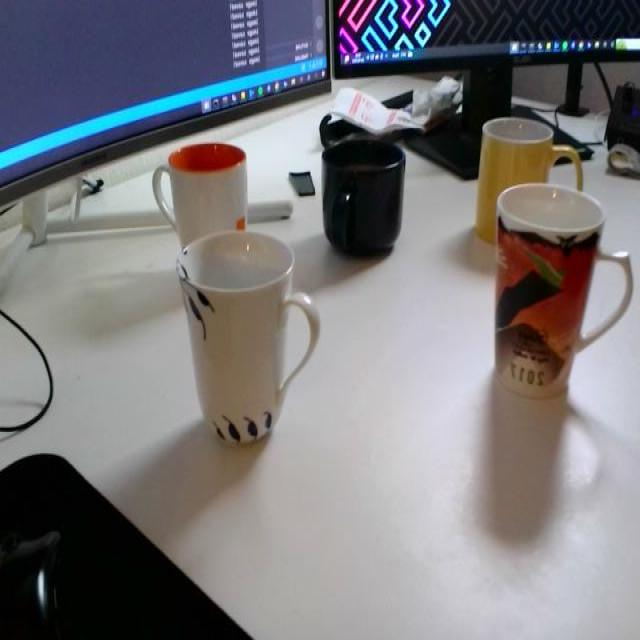cup: (170, 215, 320, 463), (489, 178, 631, 407), (468, 108, 598, 252), (145, 145, 267, 275), (317, 130, 413, 268)
